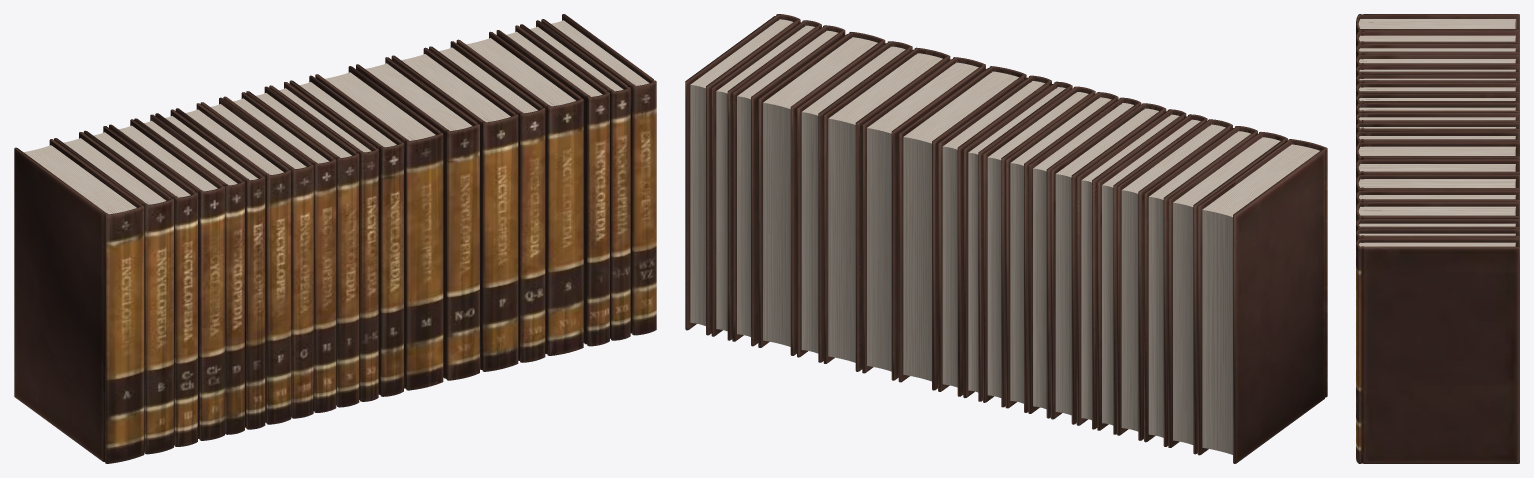
The model's file is book_encyclopedia_set_01.glb.
3 renders of one model, left to right at view 1: azimuth 30°, elevation 25°; view 2: azimuth 150°, elevation 25°; view 3: azimuth 270°, elevation 25°, orthographic. The views are drawn at different scales.
Visible parts, largest first — view 1: book_encyclopedia_set_01_book01; view 2: book_encyclopedia_set_01_book01; view 3: book_encyclopedia_set_01_book01.
Boxes of the visible parts, box(x1,y1,x2,y2) form: book_encyclopedia_set_01_book01: box(14, 14, 656, 463); book_encyclopedia_set_01_book01: box(685, 14, 1327, 463); book_encyclopedia_set_01_book01: box(1356, 14, 1519, 463).
Bounding box in the file's own units: 0.5513 × 0.2374 × 0.1631.
Materials: 2 (2 with a texture image).
